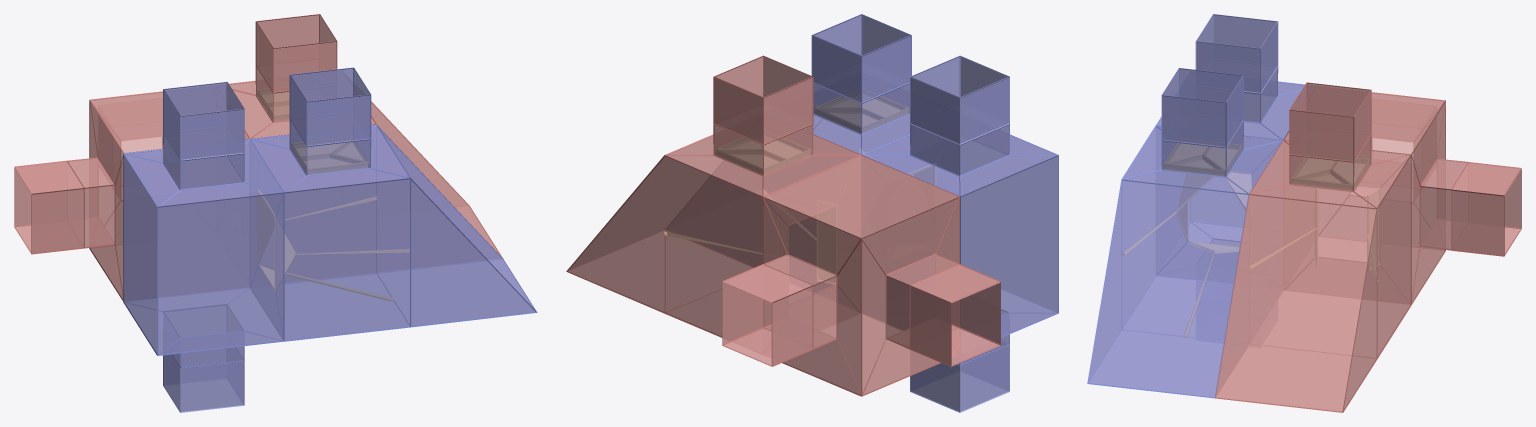
Rendered from heart-schematic.glb.
3 renders of one model, left to right at view 1: azimuth 30°, elevation 25°; view 2: azimuth 150°, elevation 25°; view 3: azimuth 270°, elevation 25°, orthographic. The views are drawn at different scales.
Visible parts, largest first — view 1: Right_Ventricle, Right_Atrium, Vena_Cava, Left_Atrium, Pulmonary_Arteries, Pulmonary_Vein, Aorta, Left_Ventricle, Tricuspid_Valve, Pulmonic_Valve, Aortic_Valve; view 2: Left_Atrium, Left_Ventricle, Right_Atrium, Pulmonary_Arteries, Vena_Cava, Aorta, Pulmonary_Vein, Right_Ventricle, Aortic_Valve, Pulmonic_Valve, Mitral_Valve; view 3: Left_Ventricle, Right_Ventricle, Left_Atrium, Right_Atrium, Pulmonary_Arteries, Pulmonary_Vein, Aorta, Vena_Cava, Tricuspid_Valve, Pulmonic_Valve, Aortic_Valve, Mitral_Valve.
Part boxes in pixels (bbox=[...]): Right_Ventricle: bbox=[250, 120, 537, 341]; Right_Atrium: bbox=[123, 134, 284, 368]; Vena_Cava: bbox=[163, 81, 244, 412]; Left_Atrium: bbox=[67, 91, 250, 301]; Pulmonary_Arteries: bbox=[14, 137, 162, 254]; Pulmonary_Vein: bbox=[289, 67, 371, 146]; Aorta: bbox=[255, 14, 337, 92]; Left_Ventricle: bbox=[229, 66, 503, 258]; Tricuspid_Valve: bbox=[258, 189, 409, 300]; Pulmonic_Valve: bbox=[291, 142, 368, 174]; Aortic_Valve: bbox=[257, 89, 289, 121]; Left_Atrium: bbox=[762, 155, 959, 396]; Left_Ventricle: bbox=[566, 124, 861, 337]; Right_Atrium: bbox=[862, 124, 1058, 365]; Pulmonary_Arteries: bbox=[722, 264, 1000, 366]; Vena_Cava: bbox=[910, 55, 1009, 412]; Aorta: bbox=[713, 55, 813, 144]; Pulmonary_Vein: bbox=[811, 14, 911, 103]; Right_Ventricle: bbox=[813, 83, 909, 154]; Aortic_Valve: bbox=[716, 137, 810, 174]; Pulmonic_Valve: bbox=[814, 96, 909, 132]; Mitral_Valve: bbox=[664, 191, 837, 284]; Left_Ventricle: bbox=[1215, 135, 1411, 412]; Right_Ventricle: bbox=[1087, 121, 1283, 398]; Left_Atrium: bbox=[1284, 92, 1468, 304]; Right_Atrium: bbox=[1156, 66, 1304, 283]; Pulmonary_Arteries: bbox=[1372, 138, 1521, 256]; Pulmonary_Vein: bbox=[1161, 68, 1243, 147]; Aorta: bbox=[1289, 82, 1371, 161]; Vena_Cava: bbox=[1195, 14, 1278, 93]; Tricuspid_Valve: bbox=[1123, 171, 1251, 337]; Pulmonic_Valve: bbox=[1163, 143, 1241, 175]; Aortic_Valve: bbox=[1291, 157, 1369, 190]; Mitral_Valve: bbox=[1250, 188, 1380, 284].
Bounding box in the file's own units: 7.48 × 5 × 6.58.
